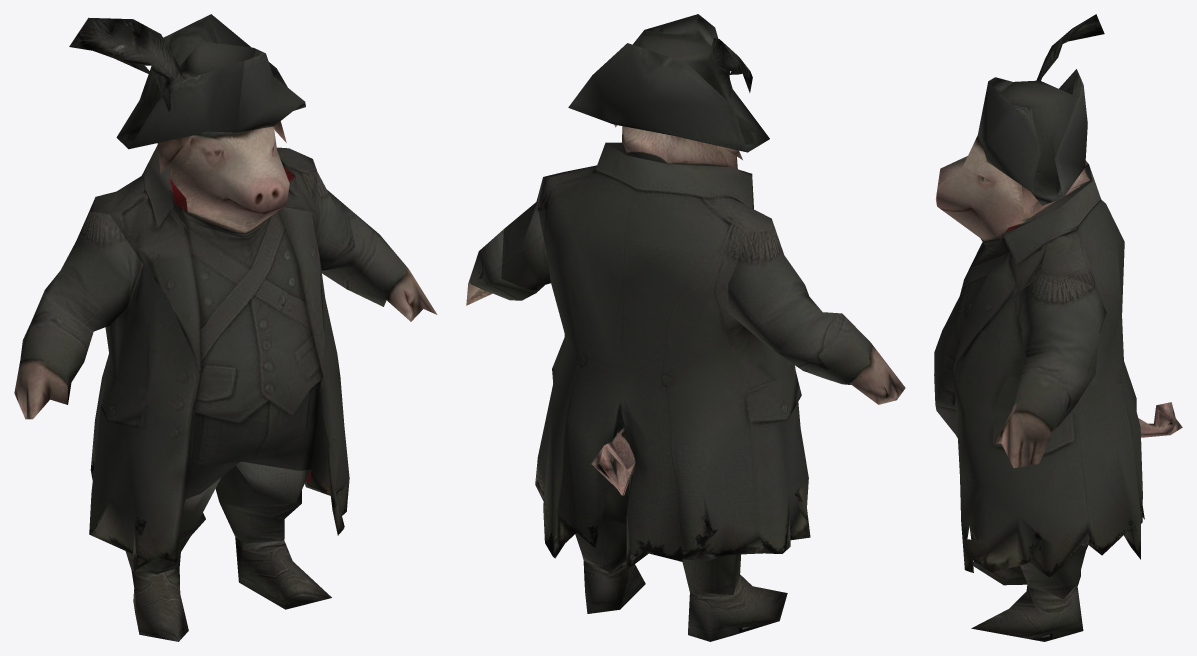
File: infantry_mix_gibs.glb
The picture shows the model from 3 angles, left to right: view 1: azimuth 30°, elevation 25°; view 2: azimuth 150°, elevation 25°; view 3: azimuth 270°, elevation 25°; orthographic projection. The views are drawn at different scales.
Parts seen in each view (by area): view 1: Body.001, Hat.001, Head.001, Arm.R.001, Forarm.R.001, Upleg.L.001, Forarm.L.001, Leg.L.001, Leg.R.001, Arm.L.001, Upleg.R.001; view 2: Body.001, Hat.001, Arm.R.001, Forarm.R.001, Leg.R.001, Arm.L.001, Head.001, Upleg.L.001, Leg.L.001, Forarm.L.001, Upleg.R.001; view 3: Body.001, Hat.001, Head.001, Forarm.L.001, Arm.L.001, Leg.L.001, Upleg.L.001, Leg.R.001.
Boxes of the visible parts, <box> form: Body.001: <box>89,144,349,570</box>; Hat.001: <box>69,14,305,149</box>; Head.001: <box>157,121,295,232</box>; Arm.R.001: <box>45,212,143,331</box>; Forarm.R.001: <box>14,290,93,419</box>; Upleg.L.001: <box>215,461,310,543</box>; Forarm.L.001: <box>321,207,437,321</box>; Leg.L.001: <box>235,537,331,609</box>; Leg.R.001: <box>131,567,188,641</box>; Arm.L.001: <box>315,172,354,270</box>; Upleg.R.001: <box>125,477,221,573</box>; Body.001: <box>535,143,810,569</box>; Hat.001: <box>568,14,769,152</box>; Arm.R.001: <box>728,219,822,352</box>; Forarm.R.001: <box>773,312,905,404</box>; Leg.R.001: <box>688,574,787,641</box>; Arm.L.001: <box>501,178,550,292</box>; Head.001: <box>606,124,742,169</box>; Upleg.L.001: <box>575,481,629,572</box>; Leg.L.001: <box>583,560,645,613</box>; Forarm.L.001: <box>466,229,535,305</box>; Upleg.R.001: <box>682,554,741,594</box>; Body.001: <box>934,166,1182,577</box>; Hat.001: <box>978,14,1104,205</box>; Head.001: <box>936,135,1092,241</box>; Forarm.L.001: <box>996,346,1095,467</box>; Arm.L.001: <box>1018,274,1106,374</box>; Leg.L.001: <box>971,584,1083,641</box>; Upleg.L.001: <box>1020,545,1088,599</box>; Leg.R.001: <box>973,561,1080,585</box>.
Size of the model in its own units: 0.7131 by 0.9701 by 0.3987.
Materials: 2 (1 with a texture image).
